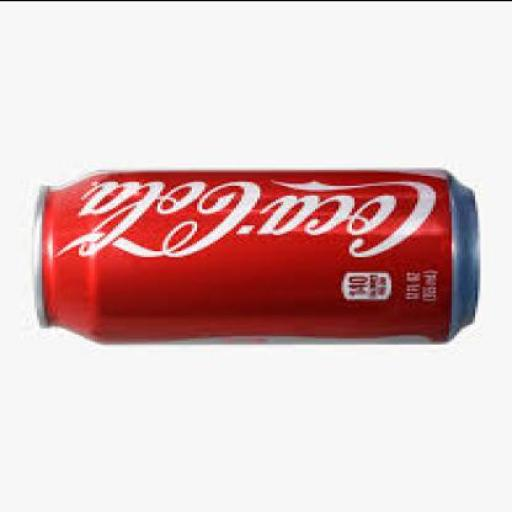metal: (32, 168, 475, 346)
